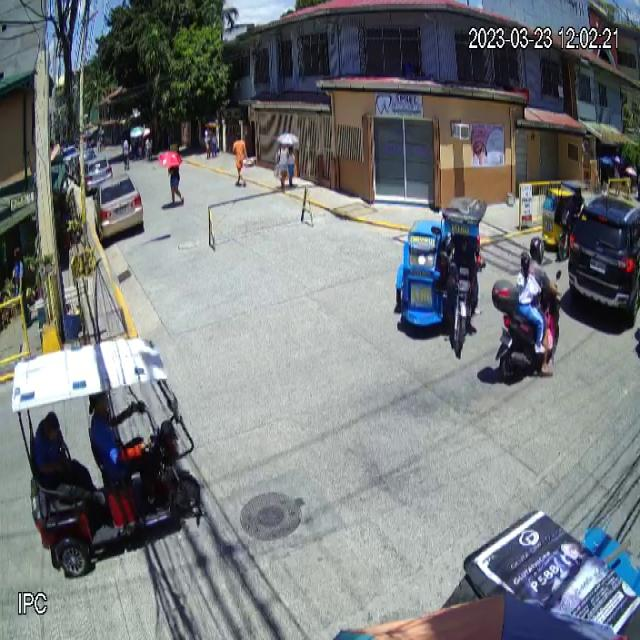Car: (567, 192, 640, 324), (92, 172, 144, 243)
Motorcycle: (488, 270, 562, 380)
Tricycle: (395, 194, 487, 358)
